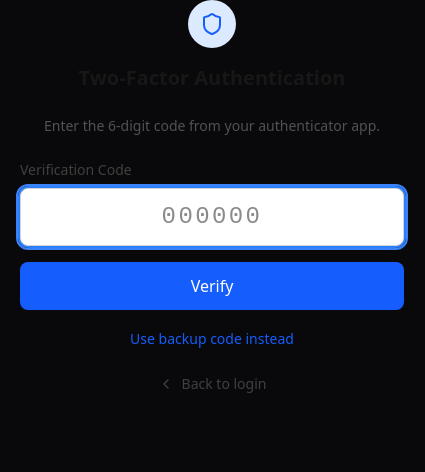
Scenario: TwoFactorVerify › TOTP verification › shows error when verification fails
Type "123456" into the field labelled "Verification Code" at (212, 217), box top-left (20, 188), bottom-right (404, 246)
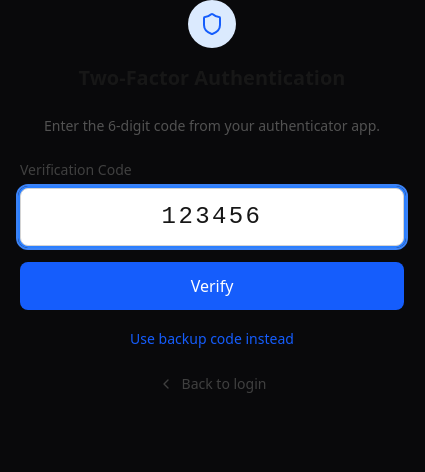
Click the button "Verify" at (212, 286), box top-left (20, 262), bottom-right (404, 310)
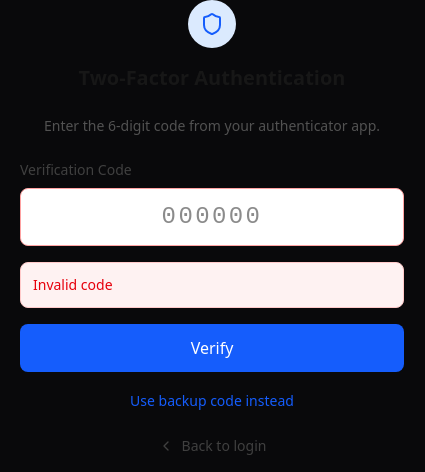
expect the text "Invalid code" is shown: met, box top-left (33, 275), bottom-right (112, 294)
